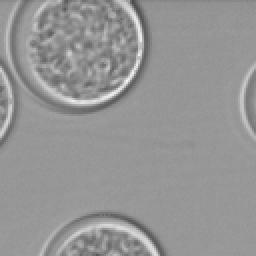picoshell: (8, 0, 146, 110), (38, 212, 162, 254), (0, 60, 16, 144), (238, 62, 254, 140)
